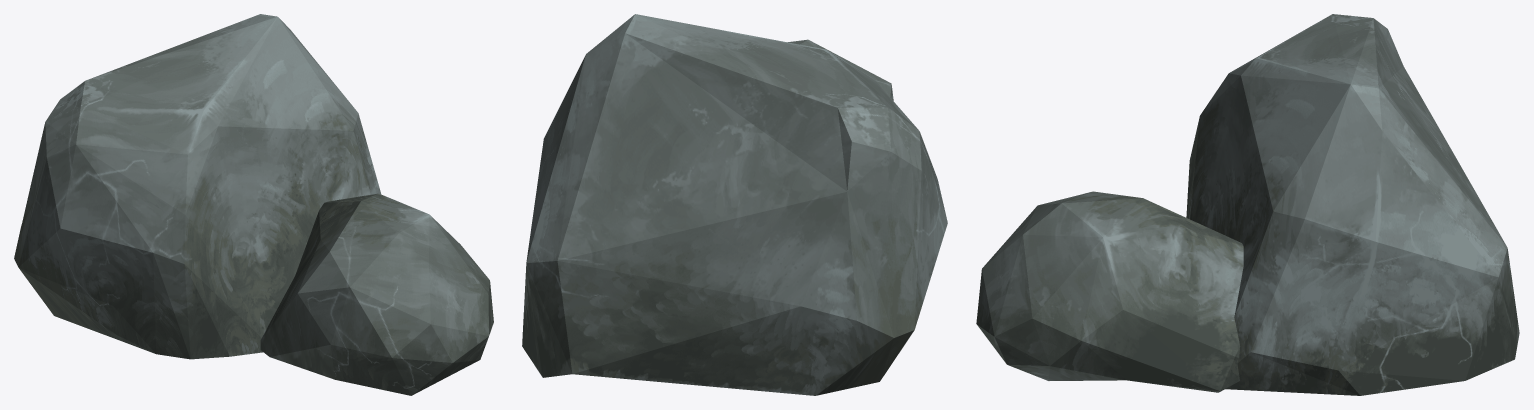
File: glaz_podwojny.obj
The picture shows the model from 3 angles, left to right: view 1: azimuth 30°, elevation 25°; view 2: azimuth 150°, elevation 25°; view 3: azimuth 270°, elevation 25°; orthographic projection. The views are drawn at different scales.
Parts seen in each view (by area): view 1: rock.008; view 2: rock.008; view 3: rock.008.
Boxes of the visible parts, x1,y1,x2,y2 form: rock.008: (14,14,493,395); rock.008: (522,14,947,395); rock.008: (976,14,1519,395).
Size of the model in its own units: 28.24 by 20.64 by 36.56.
1 material, 1 textured.
